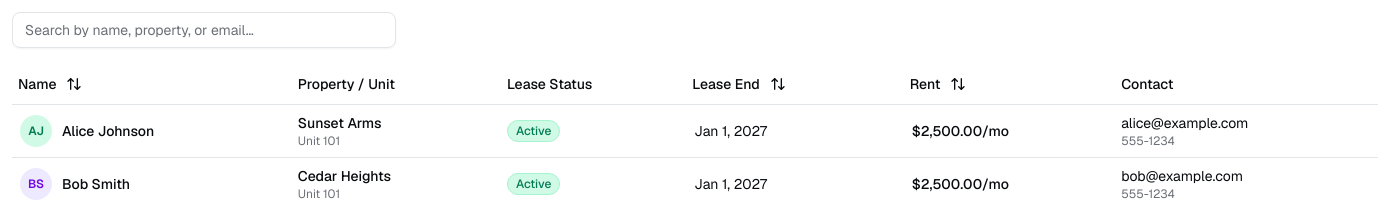
TenantsTable › filters tenants by name
This screenshot has width=1378, height=217.
Type "Bob" into the field with placeholder "Search by name, property, or email…" at (204, 30), box [12,12,396,48]
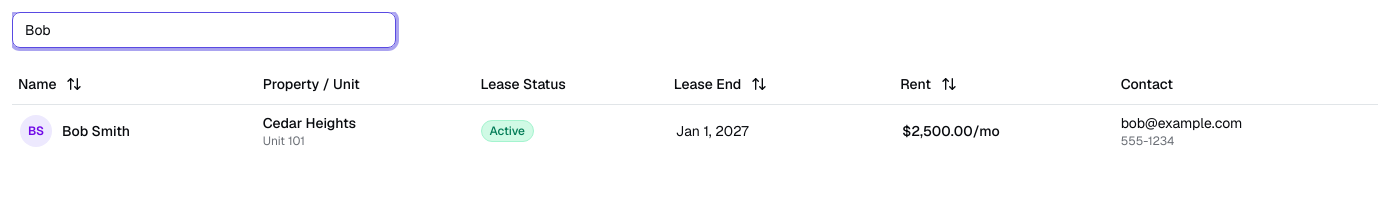
Expected: the text "Bob Smith" is shown, [62,120,130,140]
Expected: the text "Alice Johnson" is gone
